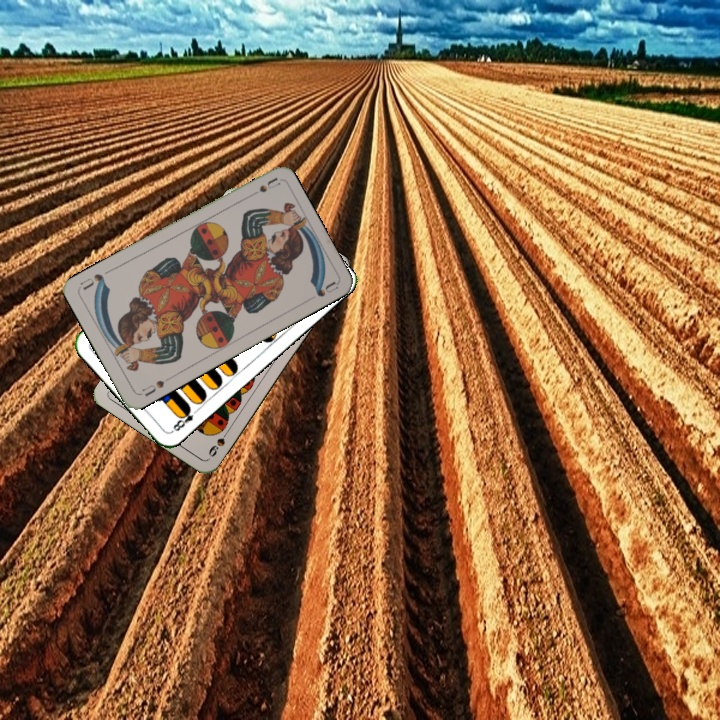E8: (167, 402, 201, 435)
S9: (204, 424, 233, 459)
SU: (243, 174, 282, 201), (138, 372, 173, 399)
